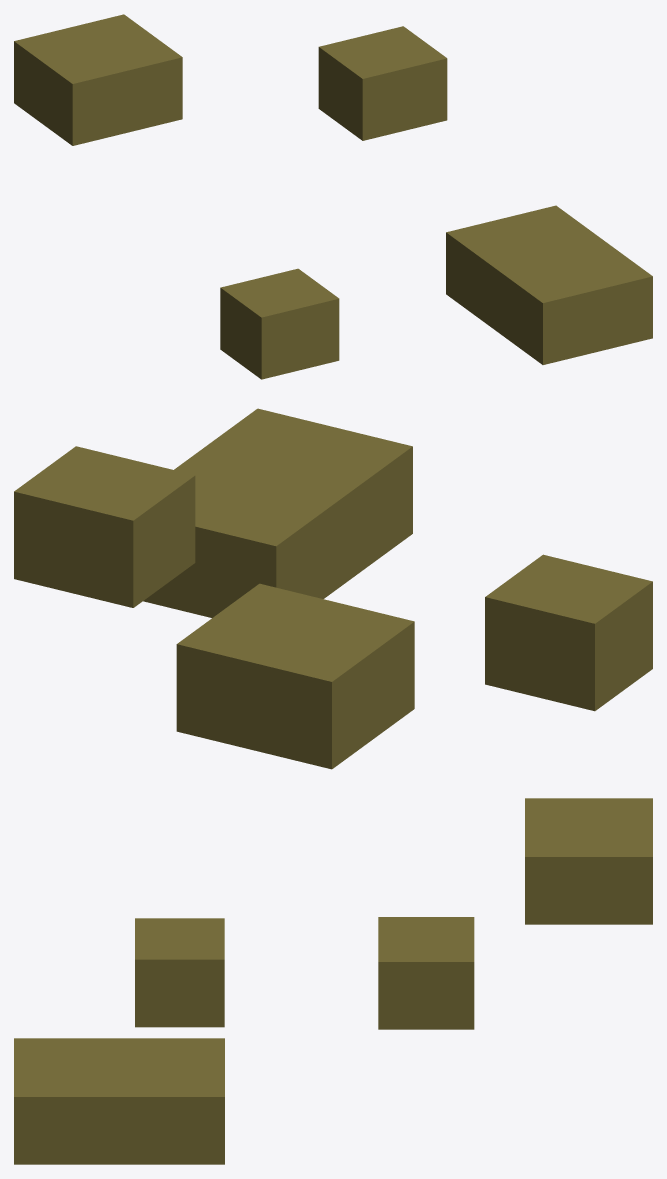
Rendered from salles_manquantes.fbx.
The picture shows the model from 3 angles, top to bottom: view 1: azimuth 30°, elevation 25°; view 2: azimuth 150°, elevation 25°; view 3: azimuth 270°, elevation 25°; orthographic projection. The views are drawn at different scales.
Parts seen in each view (by area): view 1: Salon, Chambre_mere, Salle_bain, Buanderie; view 2: Salon, Chambre_mere, Salle_bain, Buanderie; view 3: Salon, Chambre_mere, Salle_bain, Buanderie.
Boxes of the visible parts, left/top/right/bottom form: Salon: left=446, top=205, right=652, bottom=364; Chambre_mere: left=14, top=14, right=182, bottom=145; Salle_bain: left=318, top=26, right=447, bottom=140; Buanderie: left=220, top=268, right=339, bottom=379; Salon: left=143, top=408, right=412, bottom=617; Chambre_mere: left=176, top=583, right=414, bottom=769; Salle_bain: left=14, top=446, right=195, bottom=607; Buanderie: left=485, top=554, right=652, bottom=711; Salon: left=14, top=1038, right=224, bottom=1164; Chambre_mere: left=525, top=798, right=652, bottom=924; Salle_bain: left=378, top=917, right=474, bottom=1029; Buanderie: left=135, top=918, right=224, bottom=1027.
Bounding box in the file's own units: 2042 × 943 × 2998.
